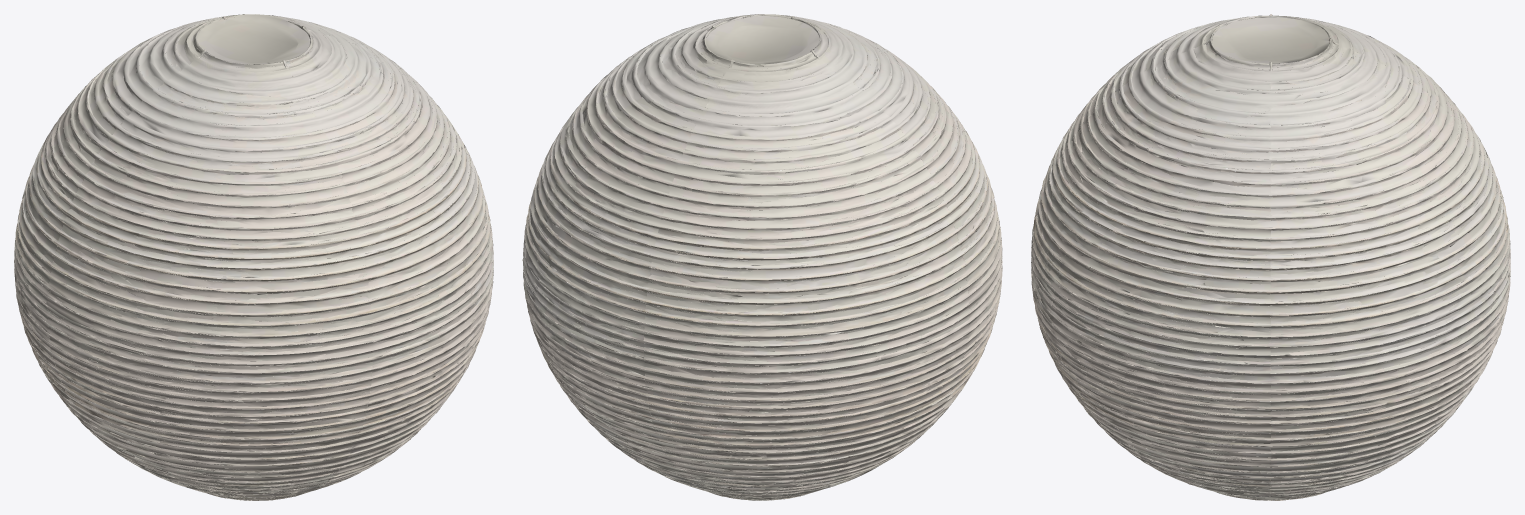
File: alt_pend_paper.glb
The picture shows the model from 3 angles, left to right: view 1: azimuth 30°, elevation 25°; view 2: azimuth 150°, elevation 25°; view 3: azimuth 270°, elevation 25°; orthographic projection.
Parts seen in each view (by area): view 1: node_0; view 2: node_0; view 3: node_0.
Part boxes in pixels (<box>): node_0: <box>14,14,493,500</box>; node_0: <box>522,14,1002,500</box>; node_0: <box>1031,14,1510,500</box>.
Bounding box in the file's own units: 1.16 × 1.16 × 1.16.
Materials: 1 (1 with a texture image).
